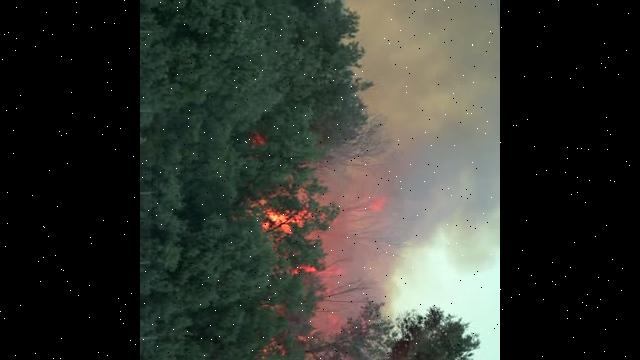fire: (247, 169, 344, 285)
